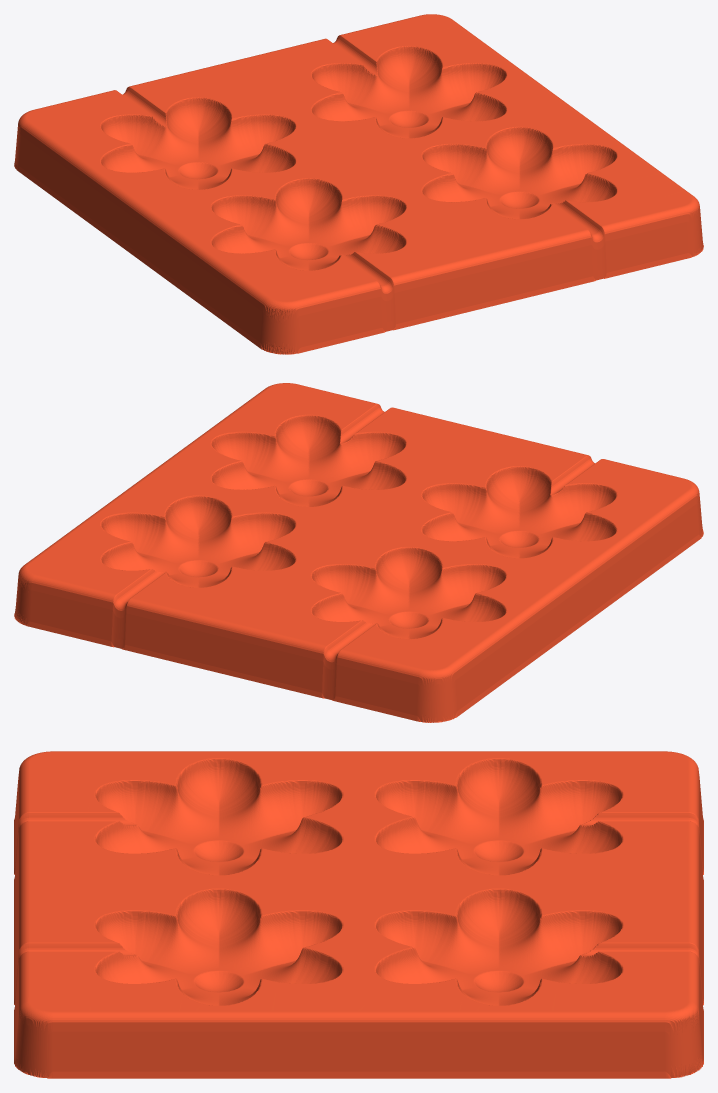
The model's file is mold.glb.
3 renders of one model, top to bottom at view 1: azimuth 30°, elevation 25°; view 2: azimuth 150°, elevation 25°; view 3: azimuth 270°, elevation 25°, orthographic. The views are drawn at different scales.
Parts seen in each view (by area): view 1: geometry_0; view 2: geometry_0; view 3: geometry_0.
Boxes of the visible parts, x1,y1,x2,y2 form: geometry_0: (14, 14, 703, 354); geometry_0: (14, 383, 703, 722); geometry_0: (14, 751, 703, 1078).
Size of the model in its own units: 0.1497 by 0.0155 by 0.1603.
